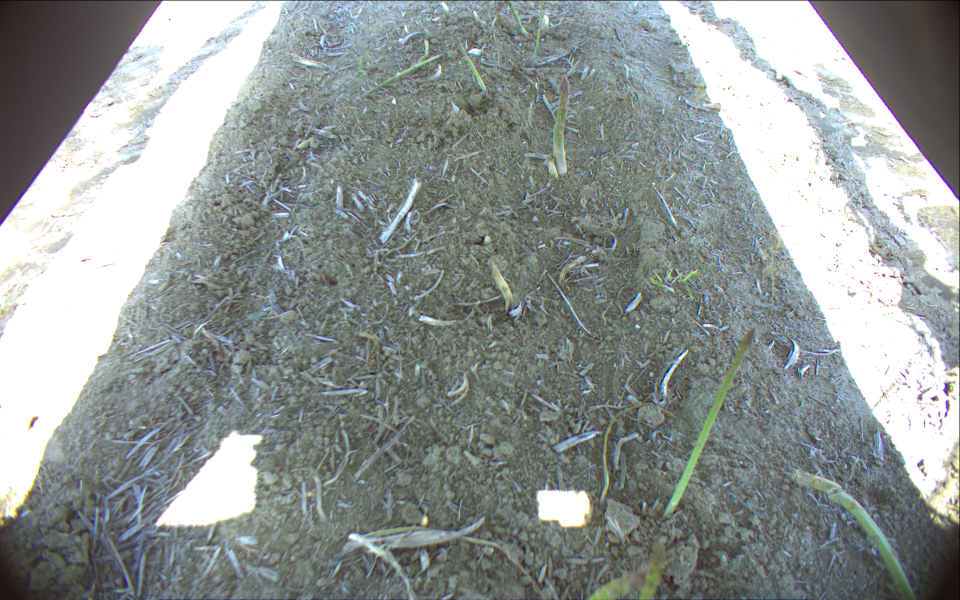aspa: (662, 327, 755, 523), (445, 31, 488, 94), (584, 569, 665, 599), (633, 542, 669, 600), (556, 74, 571, 174), (504, 1, 530, 37)
